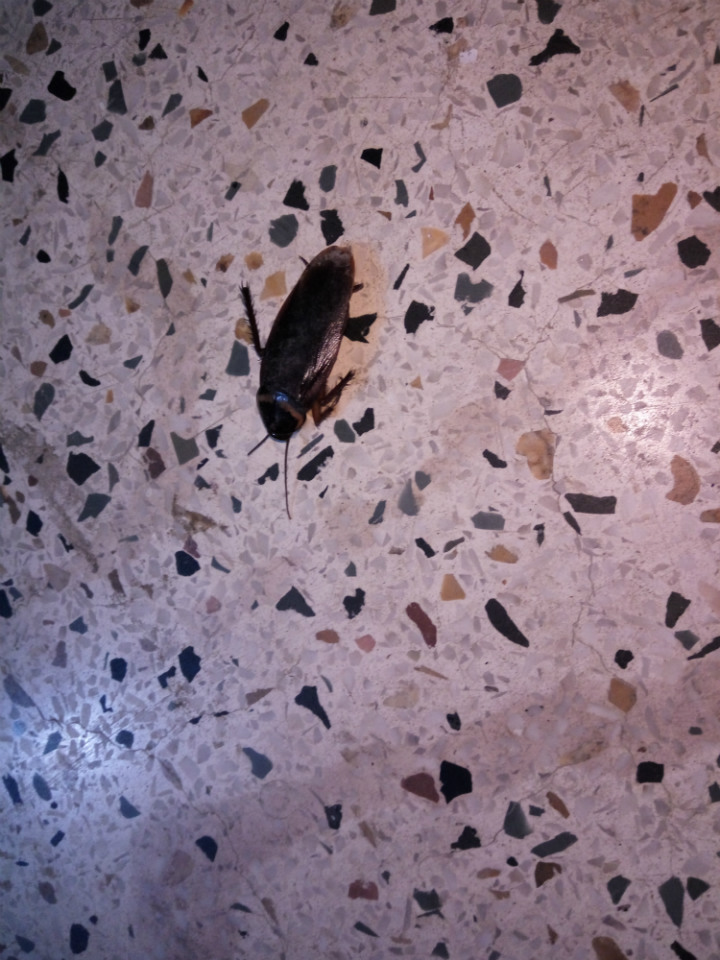cockroach: (132, 153, 435, 566)
